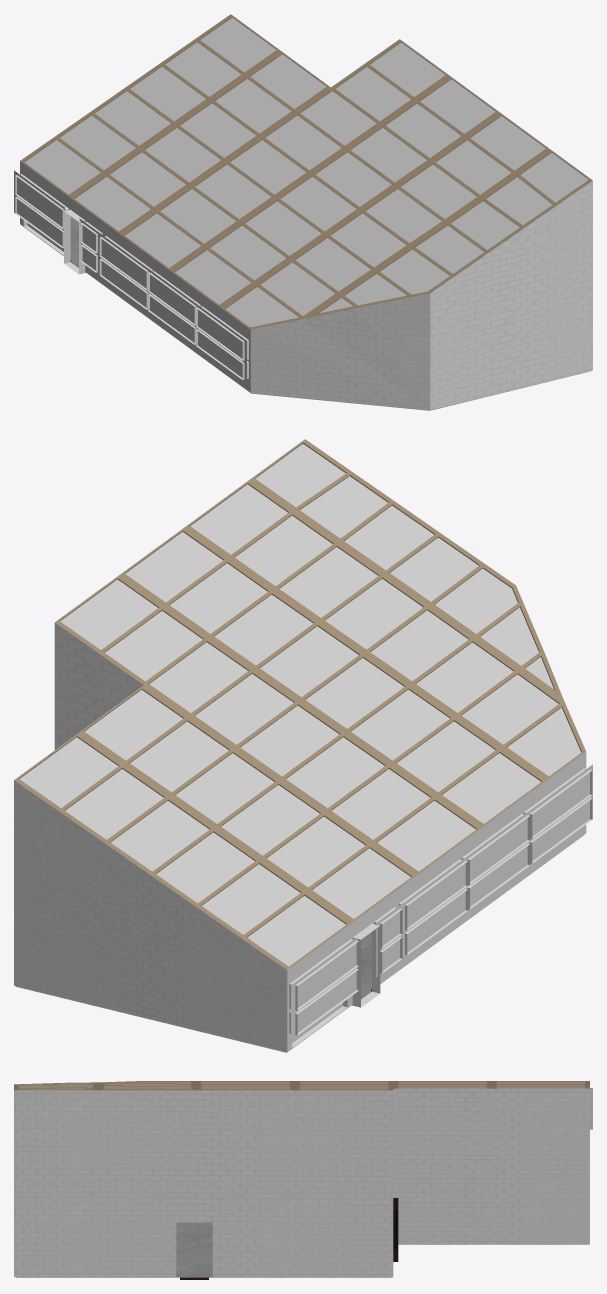
The model's file is Classroom(new).fbx.
3 renders of one model, top to bottom at view 1: azimuth 30°, elevation 25°; view 2: azimuth 150°, elevation 25°; view 3: azimuth 270°, elevation 25°, orthographic. The views are drawn at different scales.
Visible parts, largest first — view 1: Cube, Plane, Plane.001; view 2: Cube, Plane, Plane.001; view 3: Cube.
Boxes of the visible parts, <box> form: Cube: <box>15,14,592,410</box>; Plane: <box>79,218,246,382</box>; Plane.001: <box>14,170,64,248</box>; Cube: <box>14,439,592,1052</box>; Plane: <box>376,764,592,977</box>; Plane.001: <box>291,937,357,1039</box>; Cube: <box>14,1081,589,1279</box>.
Size of the model in its own units: 1432 by 903 by 2526.
